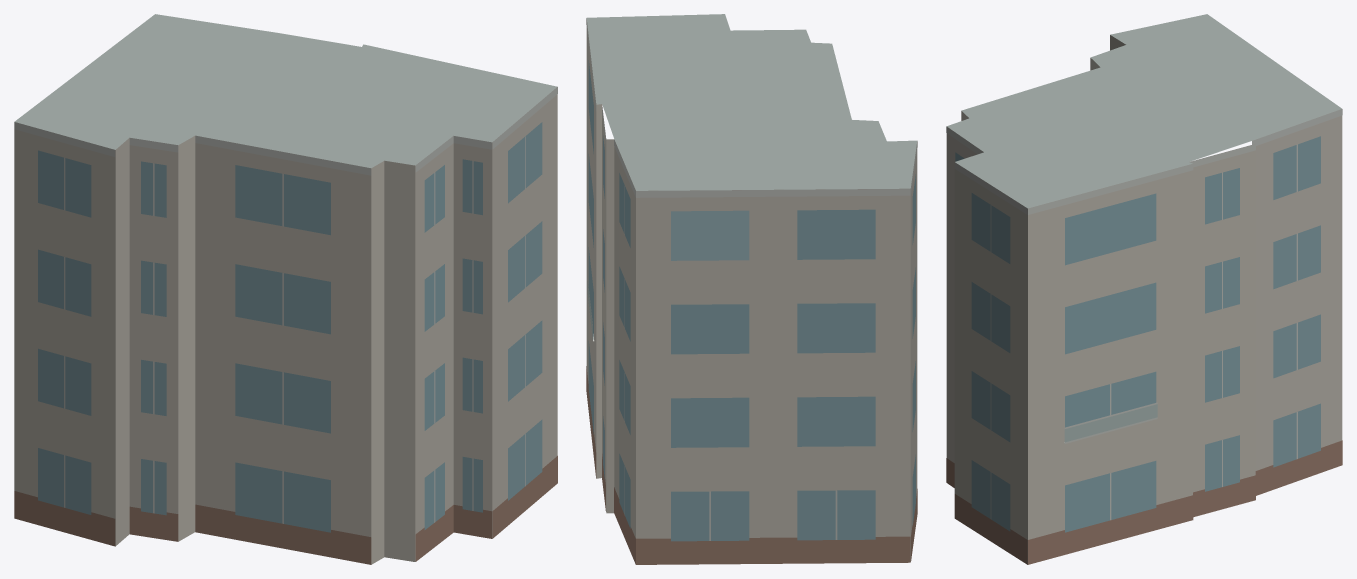
Rendered from survey-upis-33003184.glb.
The picture shows the model from 3 angles, left to right: view 1: azimuth 30°, elevation 25°; view 2: azimuth 150°, elevation 25°; view 3: azimuth 270°, elevation 25°; orthographic projection. The views are drawn at different scales.
Parts seen in each view (by area): view 1: survey-upis-33003184.tmp; view 2: survey-upis-33003184.tmp; view 3: survey-upis-33003184.tmp.
Boxes of the visible parts, left/top/right/bottom form: survey-upis-33003184.tmp: left=14, top=14, right=557, bottom=564; survey-upis-33003184.tmp: left=586, top=14, right=917, bottom=564; survey-upis-33003184.tmp: left=946, top=14, right=1342, bottom=564.
Size of the model in its own units: 15.34 by 13.1 by 13.2.
